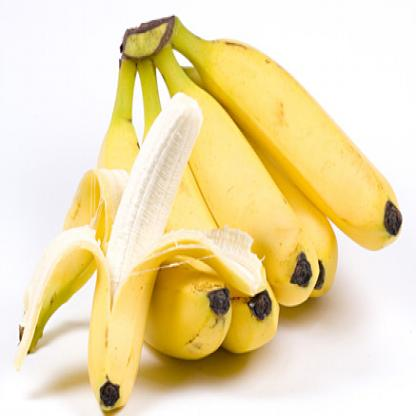banana: (180, 15, 401, 260), (161, 60, 337, 308), (132, 79, 275, 351), (81, 106, 163, 415)
